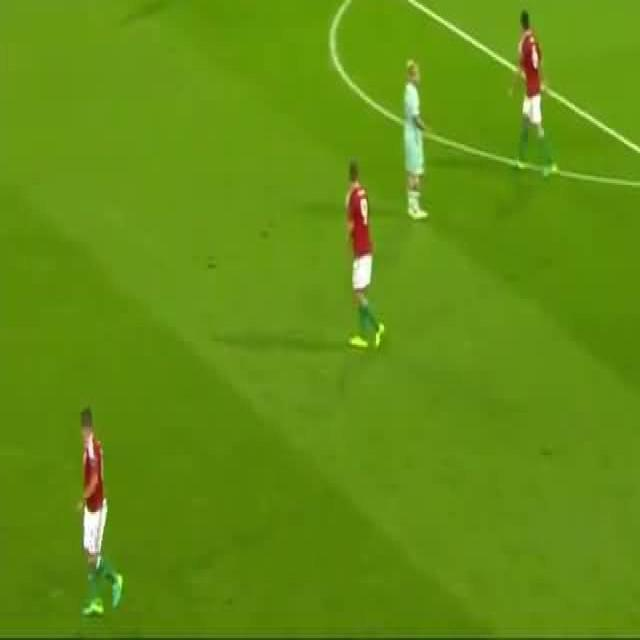player-white: (76, 405, 124, 620), (508, 11, 558, 177), (345, 162, 384, 350), (404, 59, 429, 221)
